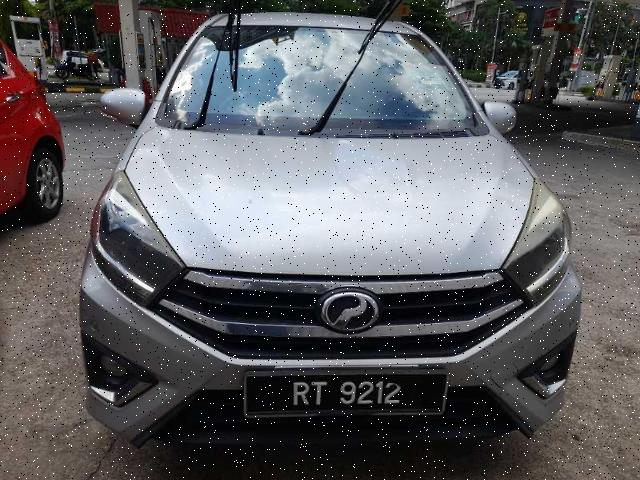License_Plate: (243, 369, 450, 420)
car: (79, 11, 583, 452)
